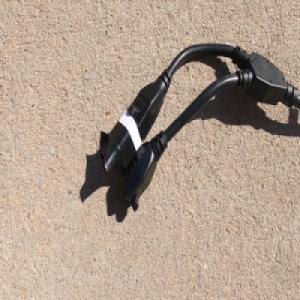Wire: (98, 40, 300, 213)
